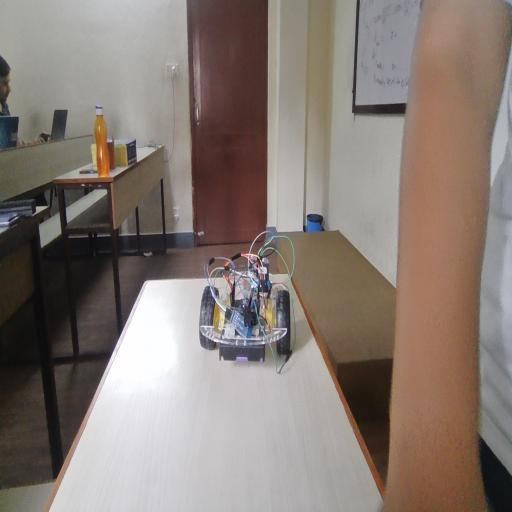Bottle: (95, 111, 114, 176)
car: (202, 240, 292, 391)
